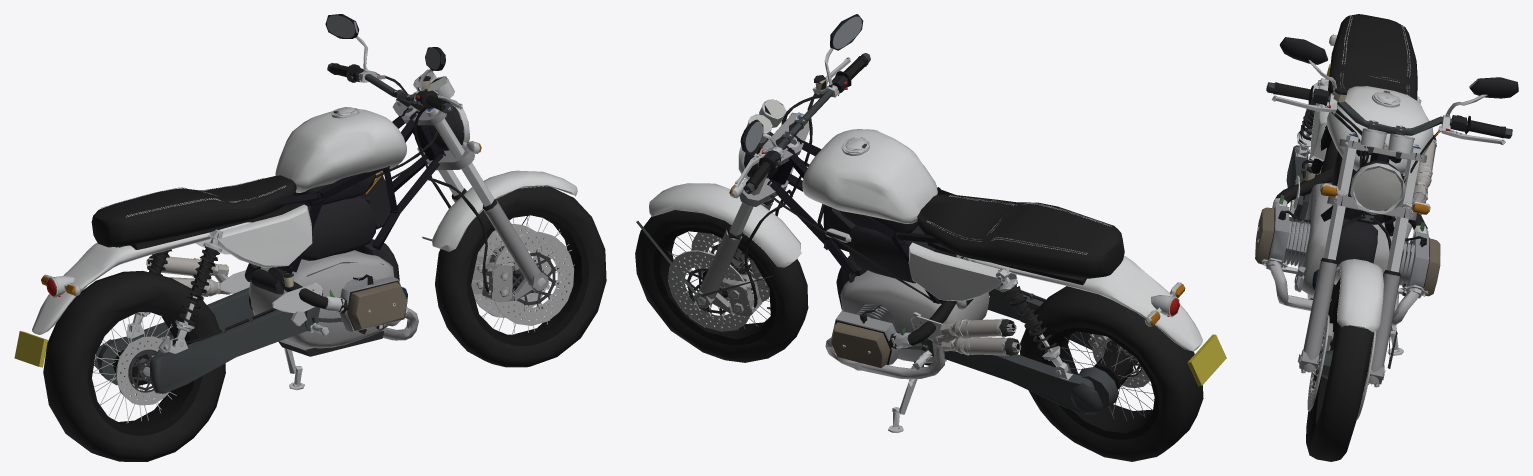
The model's file is SM_Prop_house_bike_8.glb.
3 renders of one model, left to right at view 1: azimuth 30°, elevation 25°; view 2: azimuth 150°, elevation 25°; view 3: azimuth 270°, elevation 25°, orthographic. The views are drawn at different scales.
Parts seen in each view (by area): view 1: SM_Prop_house_bike_8; view 2: SM_Prop_house_bike_8; view 3: SM_Prop_house_bike_8.
Boxes of the visible parts, x1,y1,x2,y2 form: SM_Prop_house_bike_8: (14,14,606,461); SM_Prop_house_bike_8: (635,14,1226,461); SM_Prop_house_bike_8: (1255,14,1518,461).
Bounding box in the file's own units: 2.22 × 1.31 × 0.8607.
